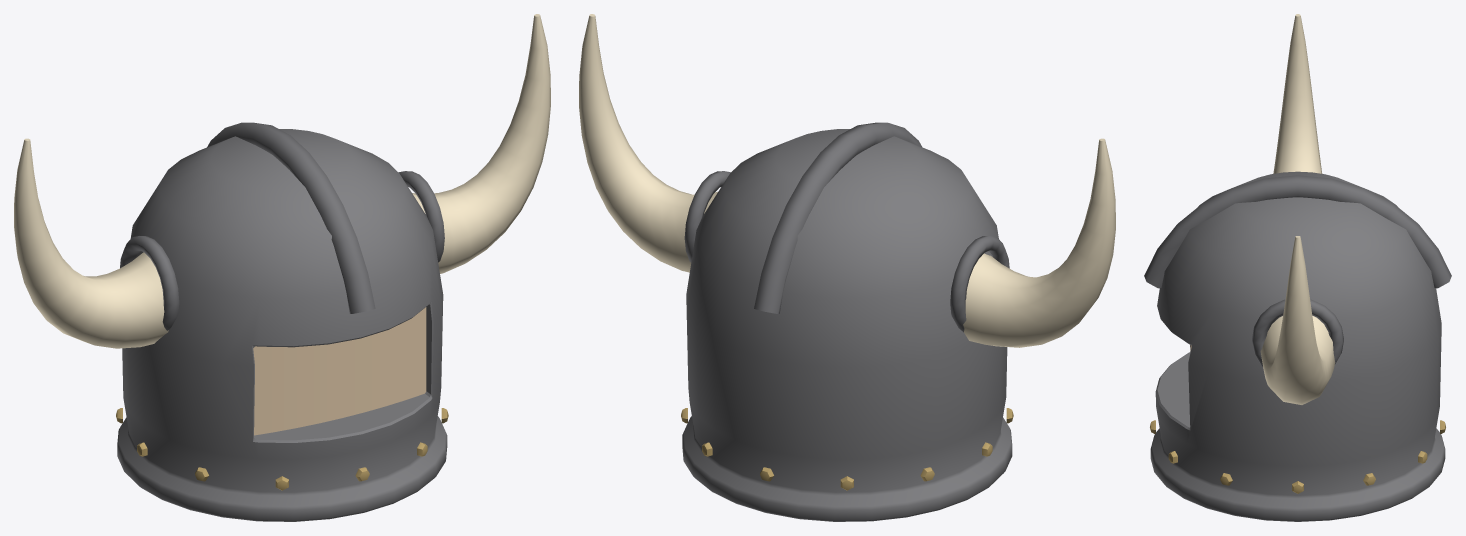
The model's file is Kit_Head_Horned.glb.
3 views of the same model, side by side, from view 1: azimuth 30°, elevation 25°; view 2: azimuth 150°, elevation 25°; view 3: azimuth 270°, elevation 25° (orthographic). The views are drawn at different scales.
Parts seen in each view (by area): view 1: Kit_Head_Horned, FacePlate; view 2: Kit_Head_Horned; view 3: Kit_Head_Horned.
Part boxes in pixels (x1=…): Kit_Head_Horned: x1=14, y1=14, x2=550, y2=521; FacePlate: x1=253, y1=307, x2=426, y2=435; Kit_Head_Horned: x1=579, y1=14, x2=1115, y2=521; Kit_Head_Horned: x1=1144, y1=14, x2=1451, y2=521.
Size of the model in its own units: 0.6026 by 0.4402 by 0.3382.
